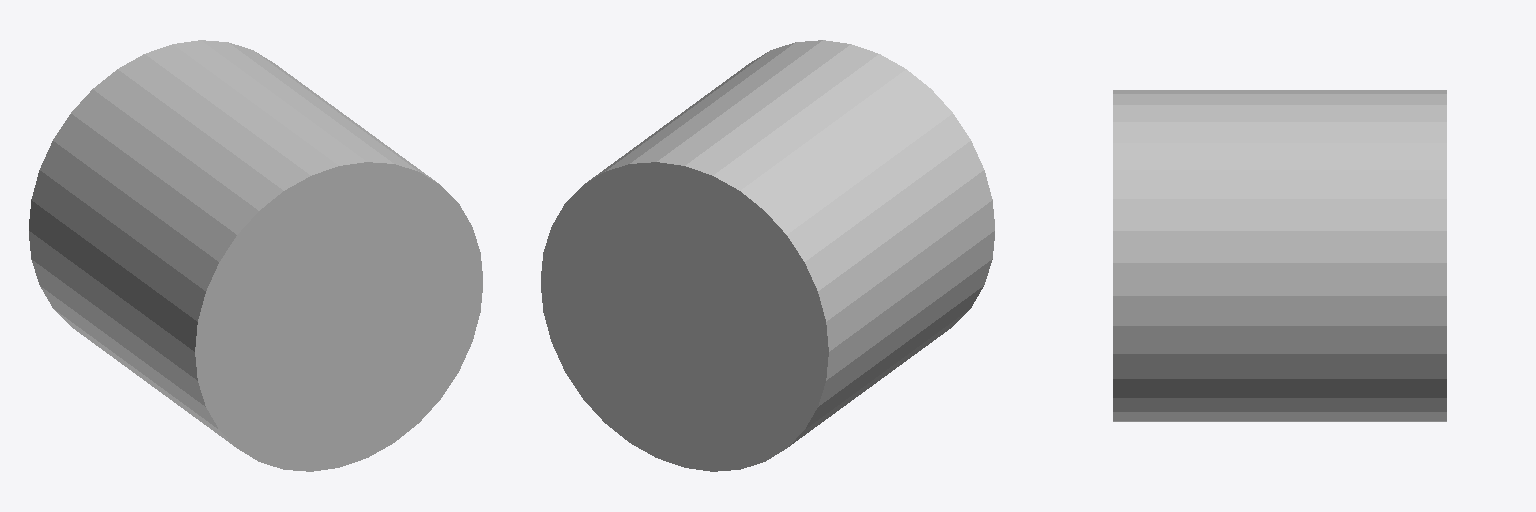
The model's file is cylinderY.obj.
3 views of the same model, side by side, from view 1: azimuth 30°, elevation 25°; view 2: azimuth 150°, elevation 25°; view 3: azimuth 270°, elevation 25° (orthographic).
Size of the model in its own units: 2 by 2 by 2.